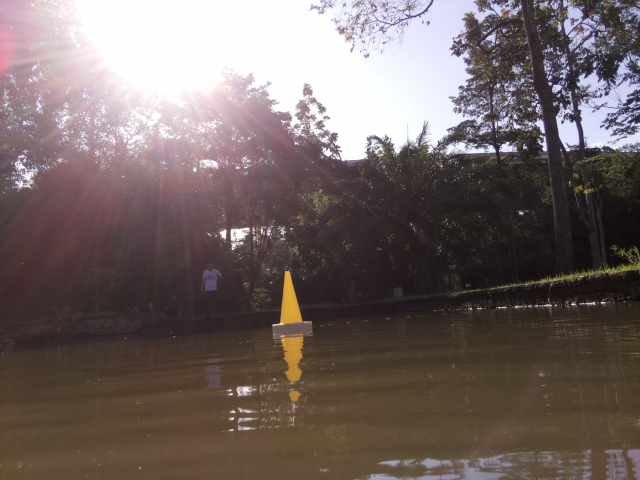checkpoint: (270, 270, 314, 338)
